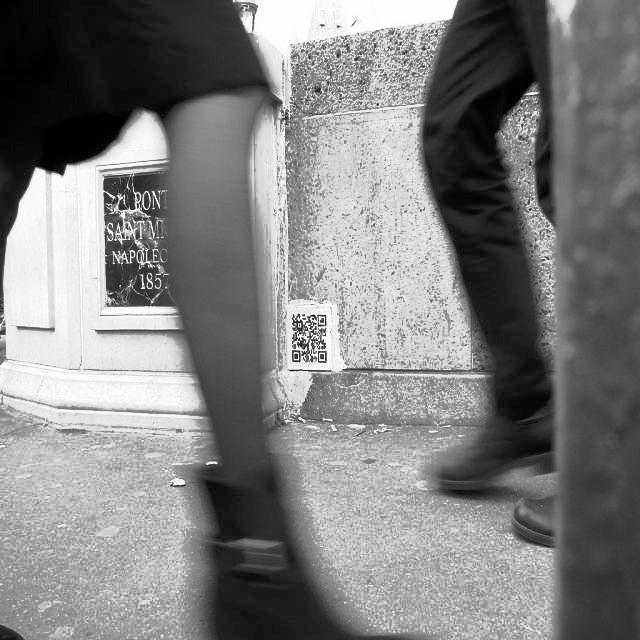qr_code: (292, 314, 326, 363)
